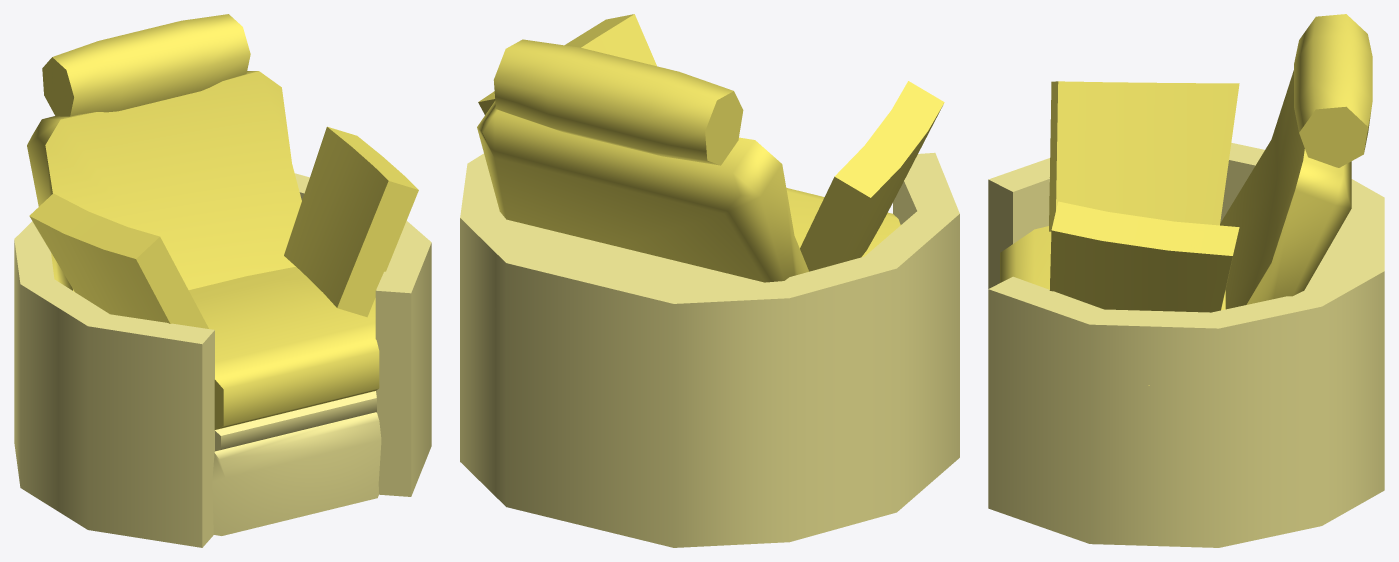
Rendered from armchair_012.glb.
3 renders of one model, left to right at view 1: azimuth 30°, elevation 25°; view 2: azimuth 150°, elevation 25°; view 3: azimuth 270°, elevation 25°, orthographic. The views are drawn at different scales.
Visible parts, largest first — view 1: armchair_012; view 2: armchair_012; view 3: armchair_012.
Part boxes in pixels (box(x1,y1,x2,y2)): armchair_012: box(14, 14, 431, 547); armchair_012: box(460, 14, 959, 547); armchair_012: box(988, 14, 1384, 547).
Size of the model in its own units: 1 by 0.9873 by 0.8917.
Materials: 1 (1 with a texture image).
